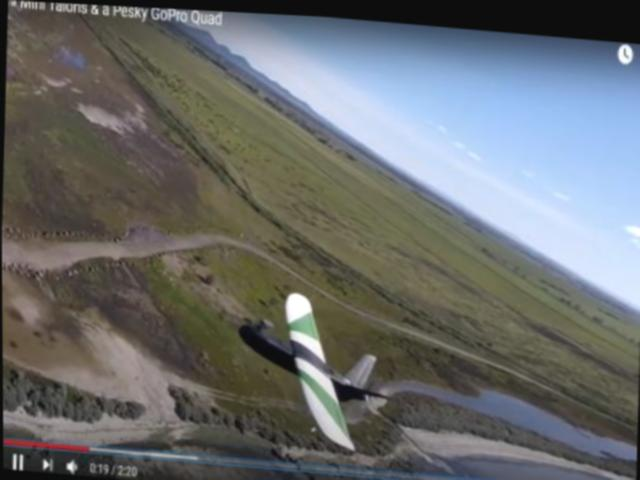uav: (230, 286, 389, 450)
